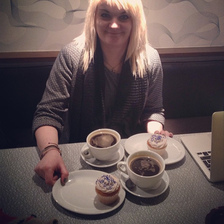laptop: (171, 109, 224, 198)
